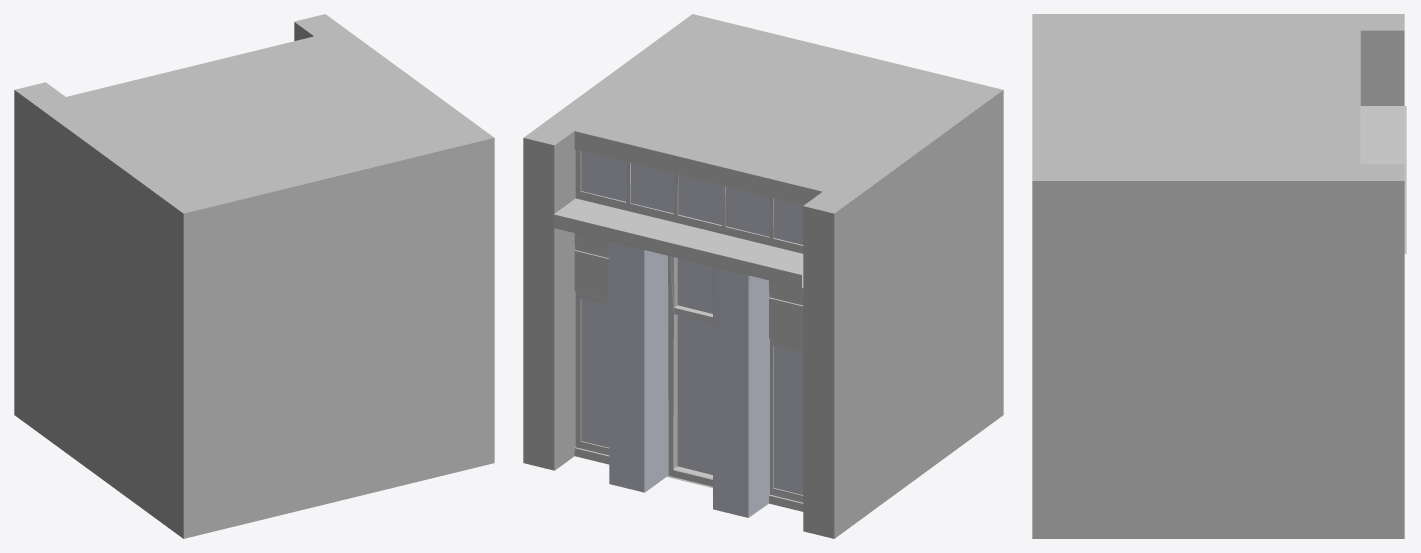
Rendered from Ground_Wall.fbx.
The picture shows the model from 3 angles, left to right: view 1: azimuth 30°, elevation 25°; view 2: azimuth 150°, elevation 25°; view 3: azimuth 270°, elevation 25°; orthographic projection. The views are drawn at different scales.
Visible parts, largest first — view 1: Ground Wall; view 2: Ground Wall; view 3: Ground Wall.
Part boxes in pixels (left/top/right/bottom): Ground Wall: left=14, top=14, right=494, bottom=538; Ground Wall: left=523, top=14, right=1003, bottom=538; Ground Wall: left=1032, top=14, right=1406, bottom=538.
Size of the model in its own units: 94.8 by 100 by 99.98.
